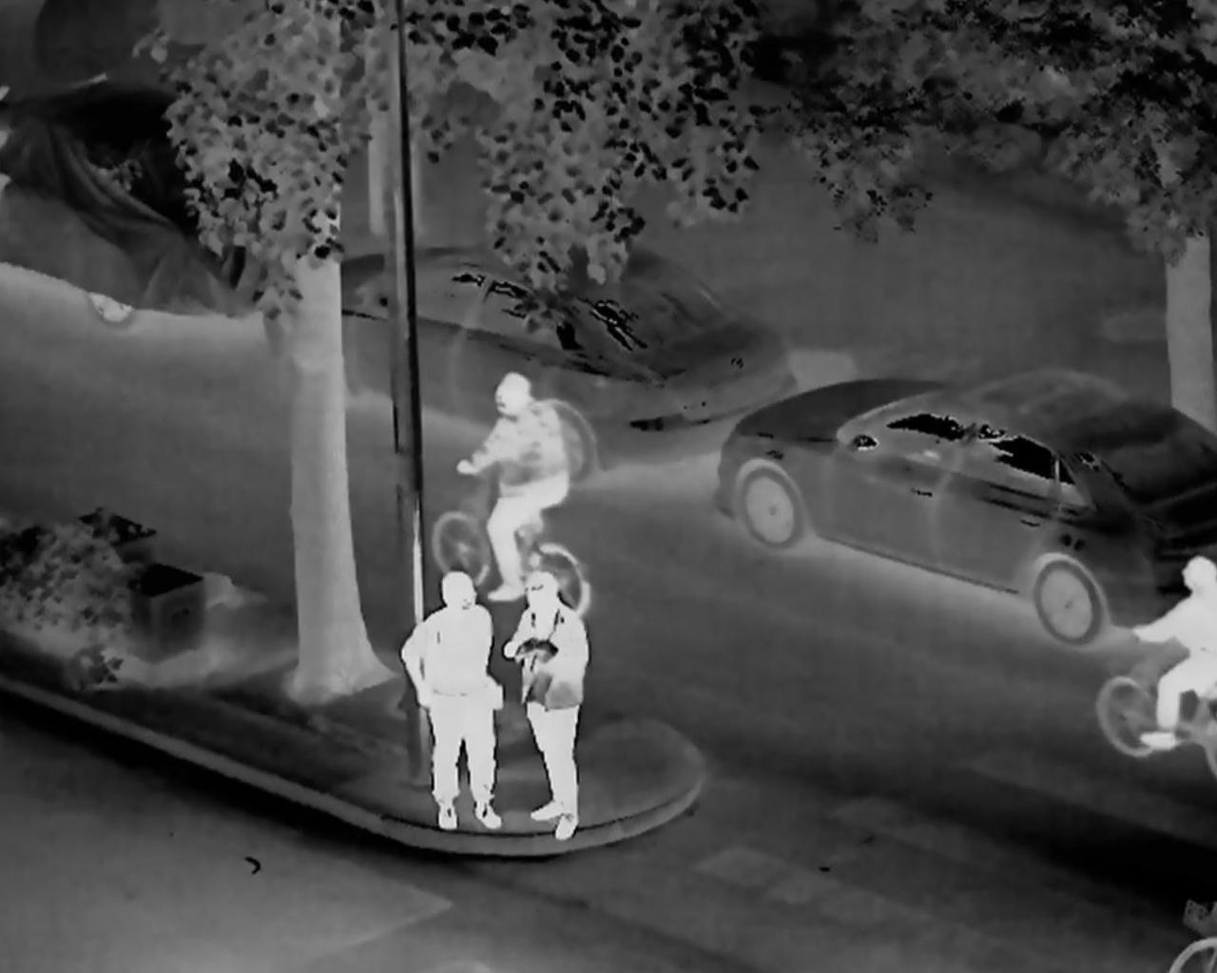person: (481, 569, 626, 846), (386, 557, 514, 843), (452, 364, 581, 626), (1122, 535, 1217, 775)
